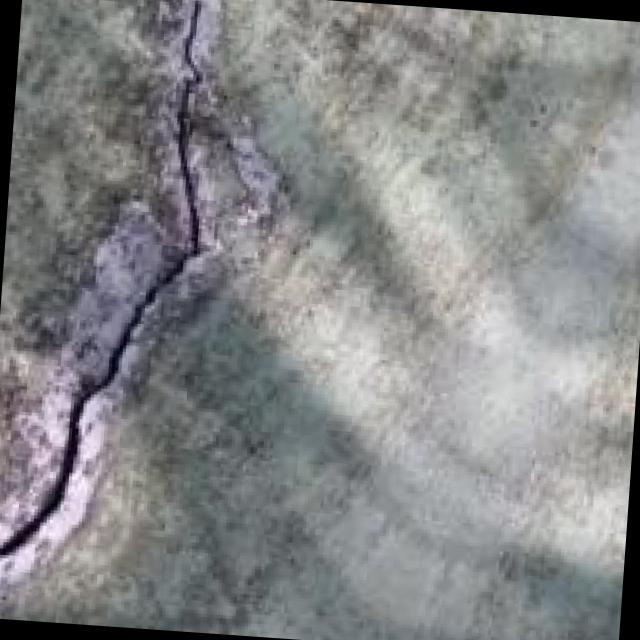crack: (0, 0, 253, 630)
